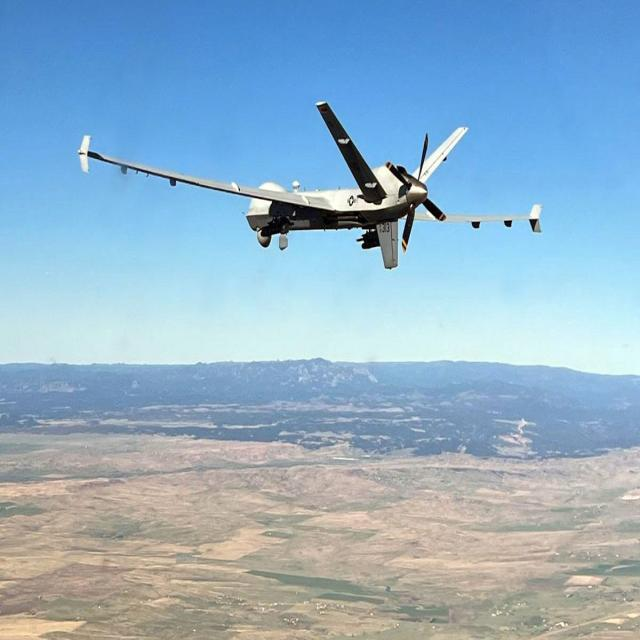MQ9: (60, 68, 586, 312)
